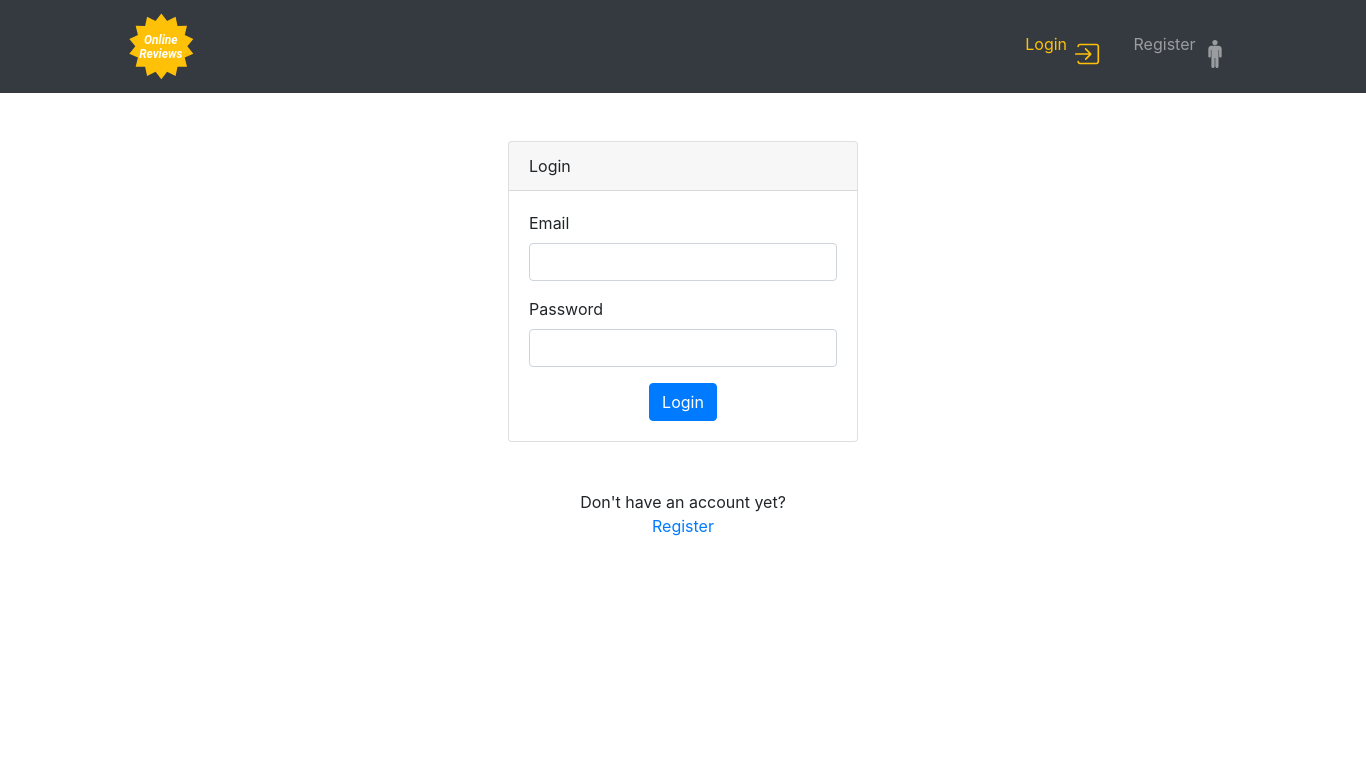
Test case: Login › should see login validation error messages
What coordinates should you click on to do the following:
click the submit button
I would click on:
 (683, 402)
Its box is 649,383 -> 717,421.
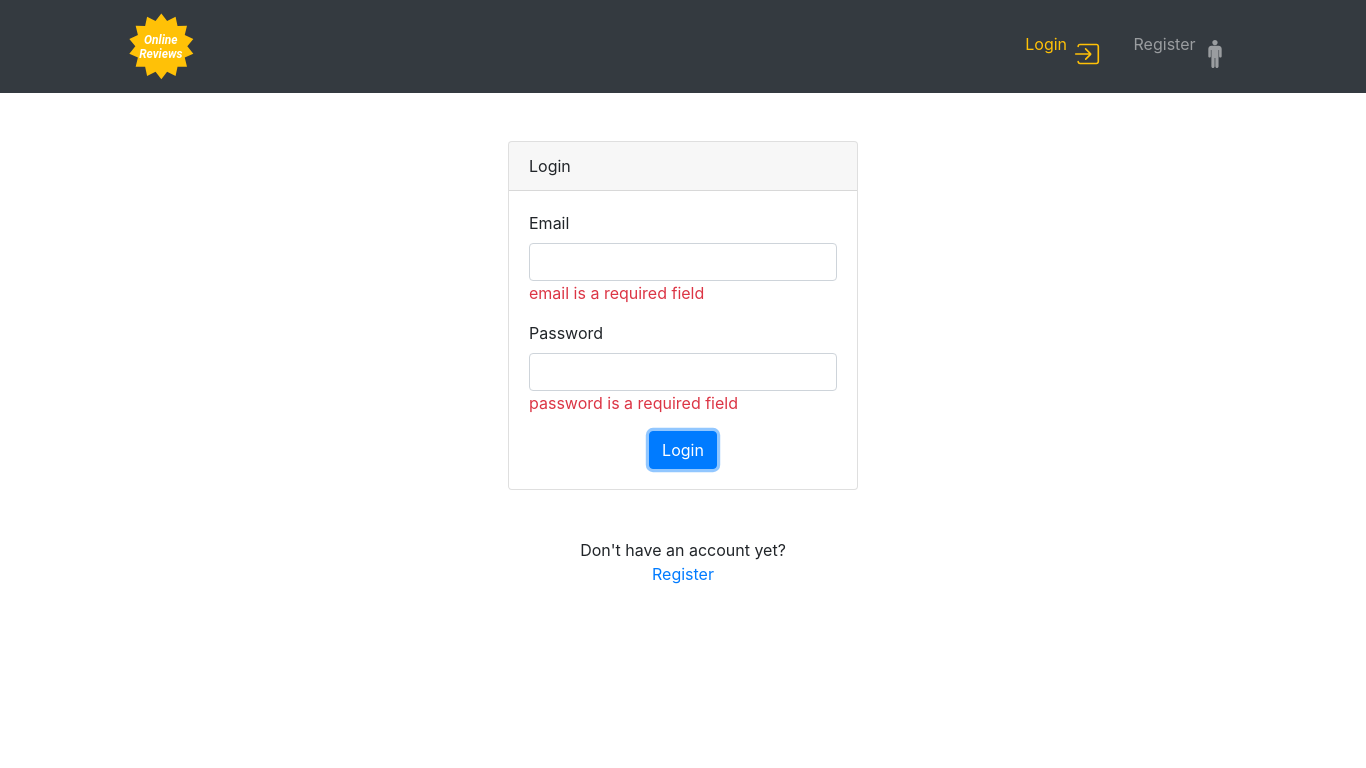
Check: the text "email is a required field" is shown, box 529,283 -> 704,303
Check: the text "password is a required field" is shown, box 529,393 -> 738,413
